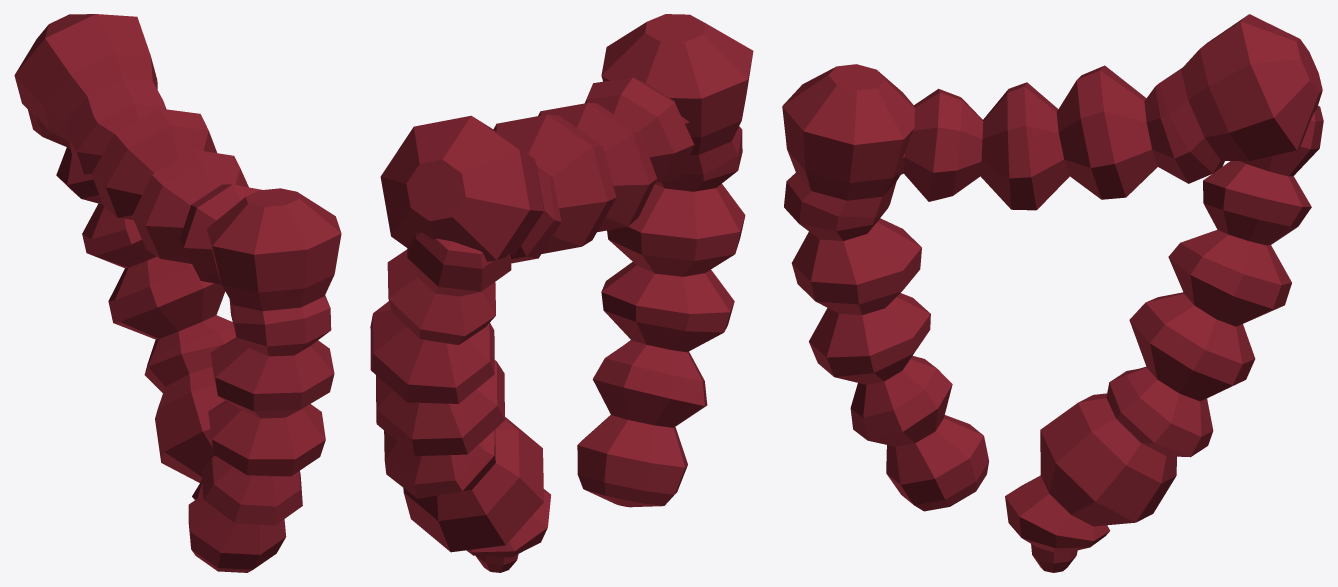
File: Intestinos.fbx
3 renders of one model, left to right at view 1: azimuth 30°, elevation 25°; view 2: azimuth 150°, elevation 25°; view 3: azimuth 270°, elevation 25°, orthographic. The views are drawn at different scales.
Parts seen in each view (by area): view 1: Cylinder.002; view 2: Cylinder.002; view 3: Cylinder.002.
Part boxes in pixels (x1,y1,x2,y2): Cylinder.002: (14,14,341,572); Cylinder.002: (370,14,753,572); Cylinder.002: (782,14,1323,572).
Size of the model in its own units: 120 by 293 by 278.
